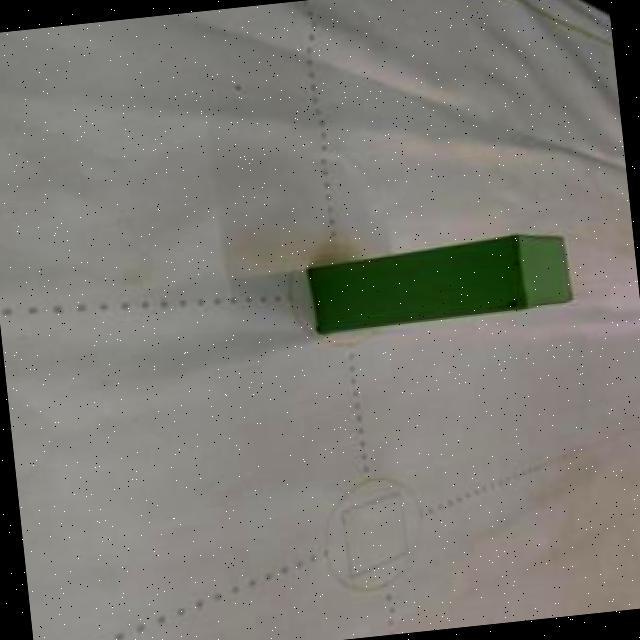greenbox: (302, 224, 581, 338)
